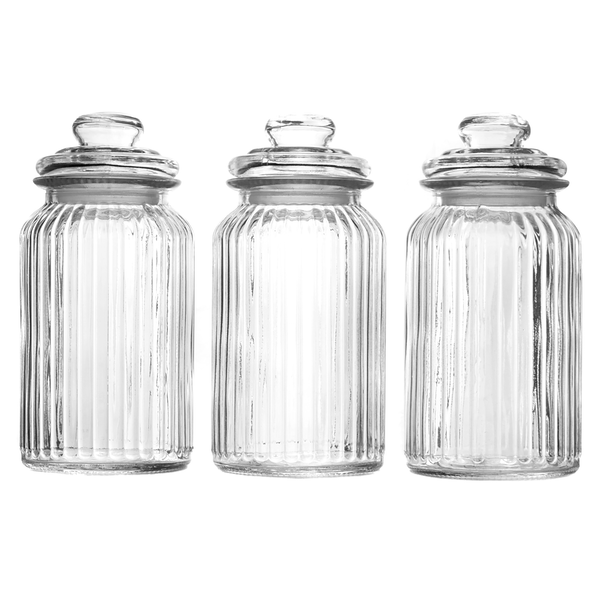glass_bottle: (397, 109, 588, 485), (14, 106, 198, 480), (206, 113, 389, 483)
